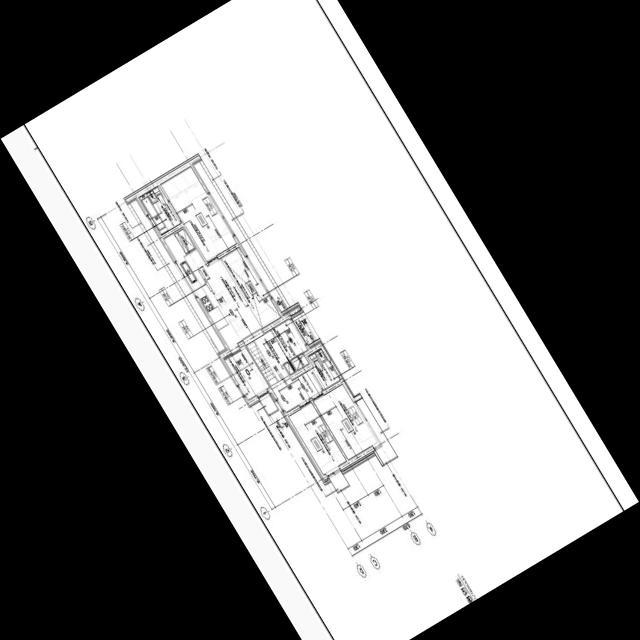background: (1, 0, 639, 640)
space_bedroom: (160, 166, 237, 261), (313, 383, 377, 459), (289, 402, 347, 474)
space_front: (271, 319, 308, 369)
space_kitchen: (163, 226, 249, 347)
space_living_room: (207, 247, 322, 411)
space_multipurpose_space: (224, 347, 269, 399)
space_other: (284, 361, 294, 374)
space_staircase: (246, 340, 278, 385)
space_toilet: (139, 185, 181, 234), (308, 348, 340, 389)
